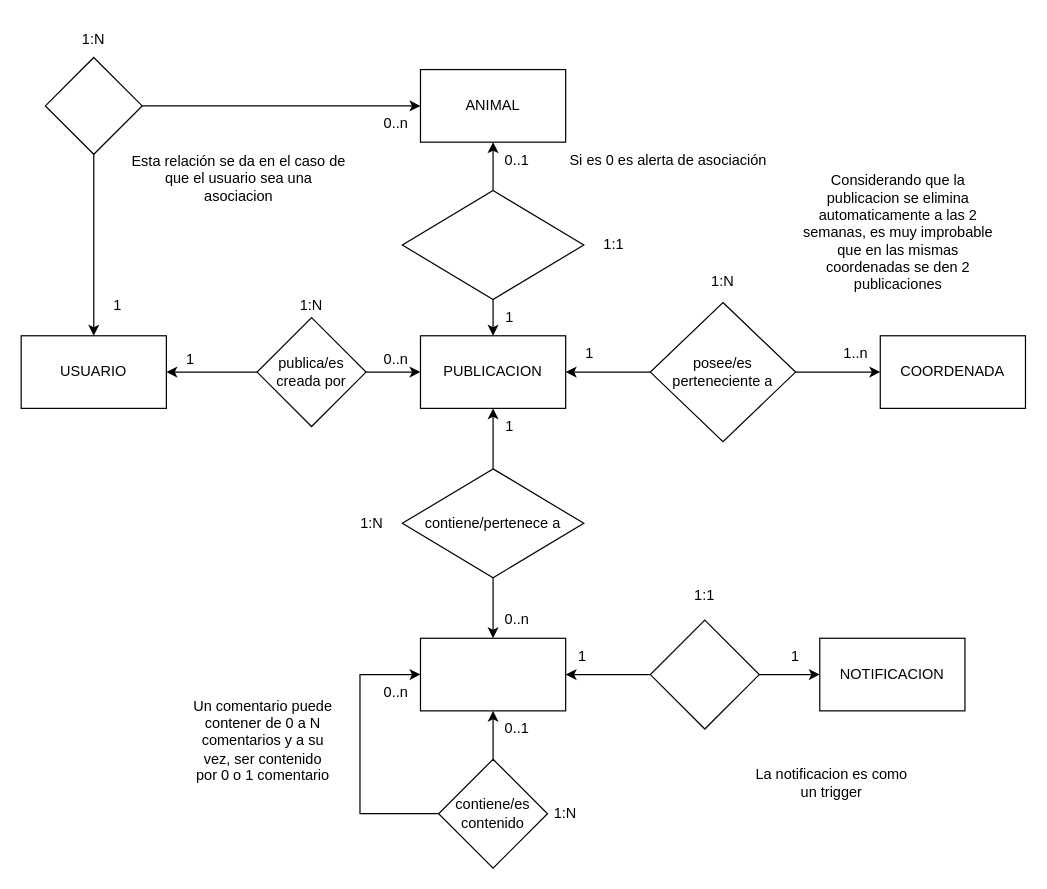
The diagram is 1047 pixels wide and 889 high, and some of its shapes have lost their labels. Each missing label, with the box of its shape:
COMENTARIO: (419, 637, 566, 711)
genera/es generado por: (649, 619, 759, 729)
posee/es poseido: (44, 56, 142, 154)
publica/pertenece a: (401, 189, 584, 299)
